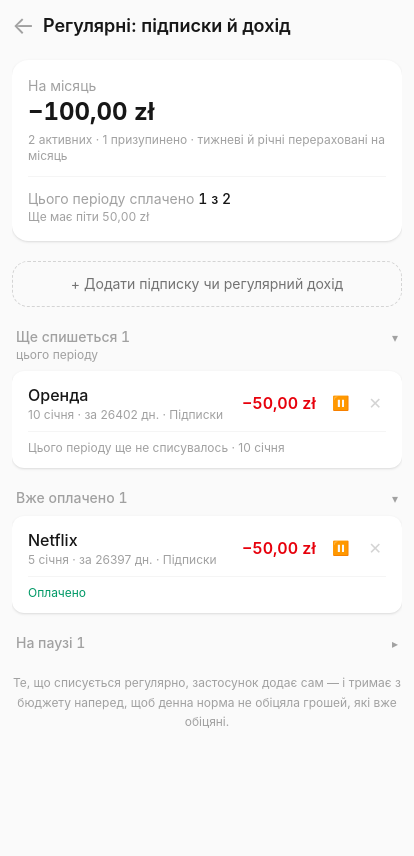
Scenario: Recurring — when it next goes out › says when the next charge lands and whether this period already paid
This screenshot has width=414, height=856.
expect the text "5 січня · за 26397 дн. · Підписки" is shown: met, box [28,552,230,568]
Click the text "На паузі 1": (51, 643) [16,633,85,653]
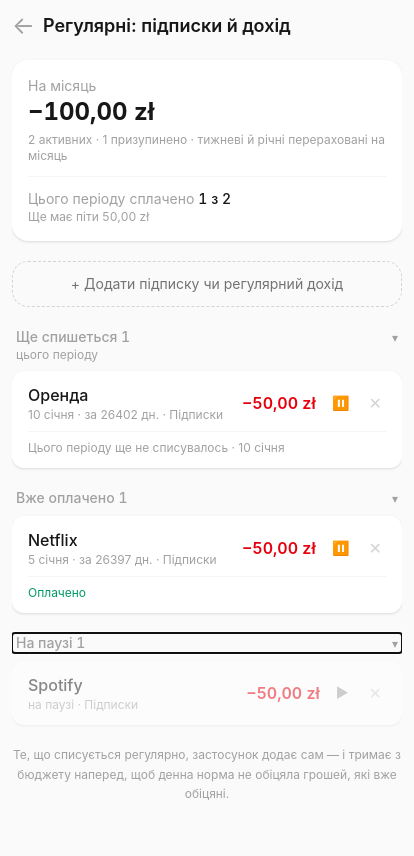
expect the text "Оплачено" is shown: met, box [28,585,86,600]
expect the text "на паузі · Підписки" is shown: met, box [28,697,138,712]
